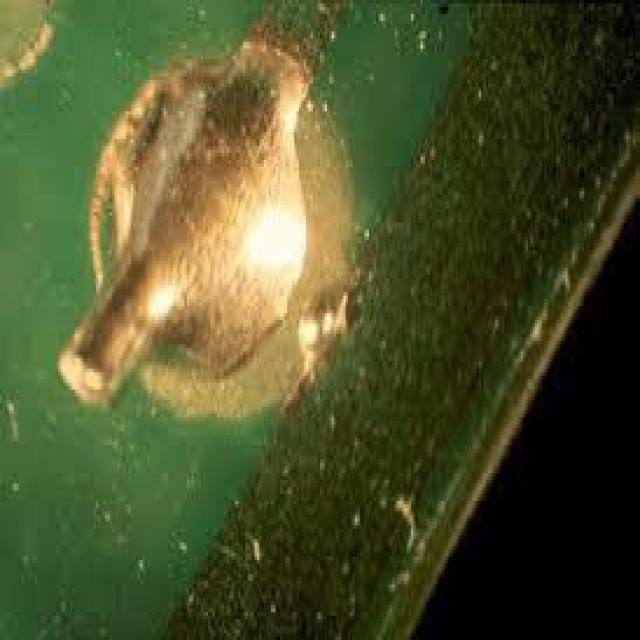redundant: (57, 24, 352, 416)
